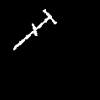double_crochet: (14, 9, 56, 49)
